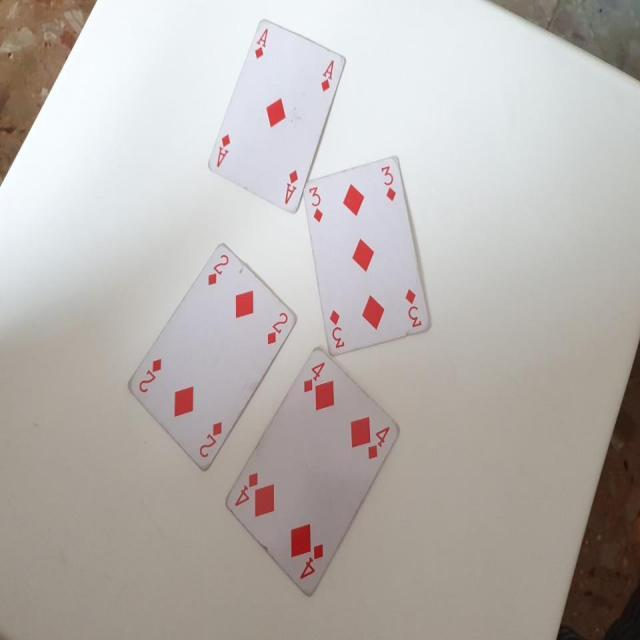2 of diamonds: (128, 237, 298, 474)
3 of diamonds: (306, 148, 433, 354)
4 of diamonds: (223, 344, 399, 603)
ace of diamonds: (200, 10, 344, 229)
